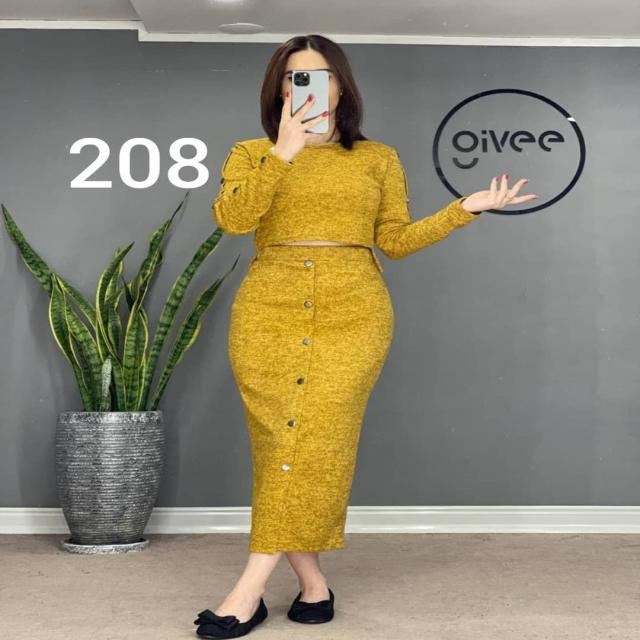clothes: (199, 111, 432, 567)
